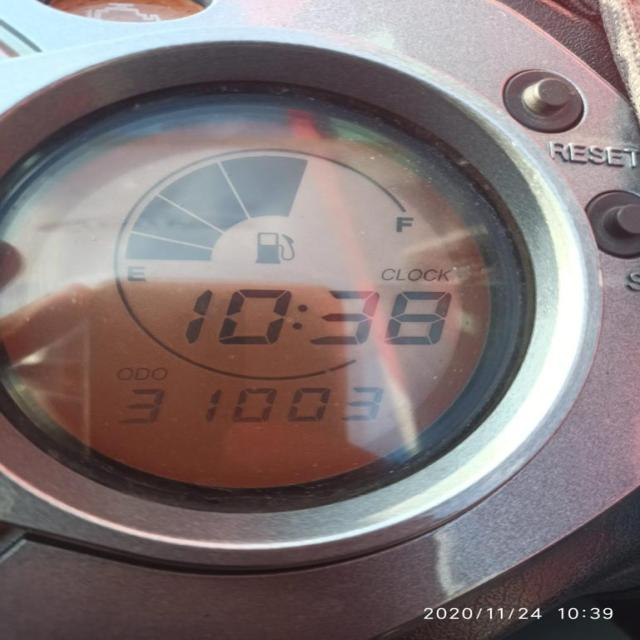odometer: (0, 88, 498, 512)
